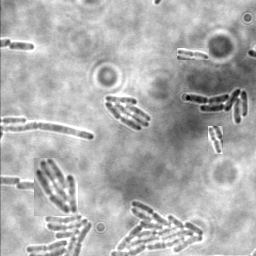Dividing: (1, 123, 95, 142), (208, 126, 223, 154), (177, 48, 209, 60), (8, 41, 35, 52)
Microcolony: (109, 200, 205, 255), (25, 212, 94, 255), (34, 158, 78, 216), (184, 89, 248, 126), (103, 96, 150, 132), (16, 182, 33, 193)
